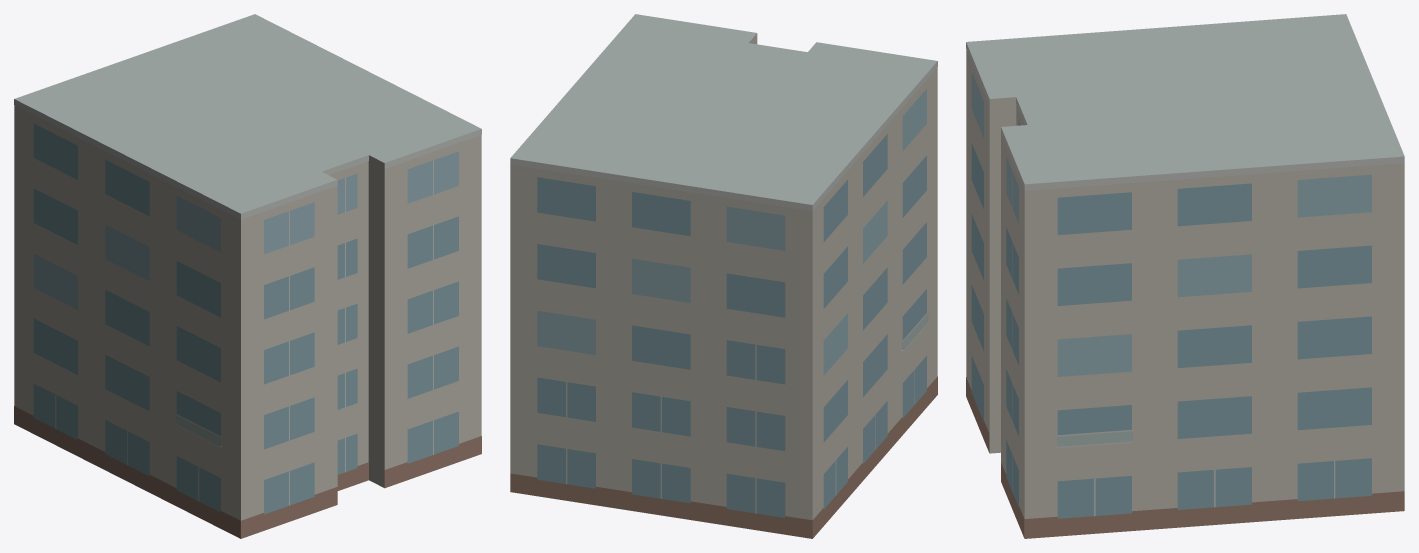
The model's file is survey-upis-32892270.glb.
3 renders of one model, left to right at view 1: azimuth 30°, elevation 25°; view 2: azimuth 150°, elevation 25°; view 3: azimuth 270°, elevation 25°, orthographic. The views are drawn at different scales.
Parts seen in each view (by area): view 1: survey-upis-32892270.tmp; view 2: survey-upis-32892270.tmp; view 3: survey-upis-32892270.tmp.
Part boxes in pixels (box(x1,y1,x2,y2)): survey-upis-32892270.tmp: box(14, 14, 481, 538); survey-upis-32892270.tmp: box(510, 14, 937, 538); survey-upis-32892270.tmp: box(966, 14, 1404, 538).
Size of the model in its own units: 13.66 by 13.25 by 14.87.
